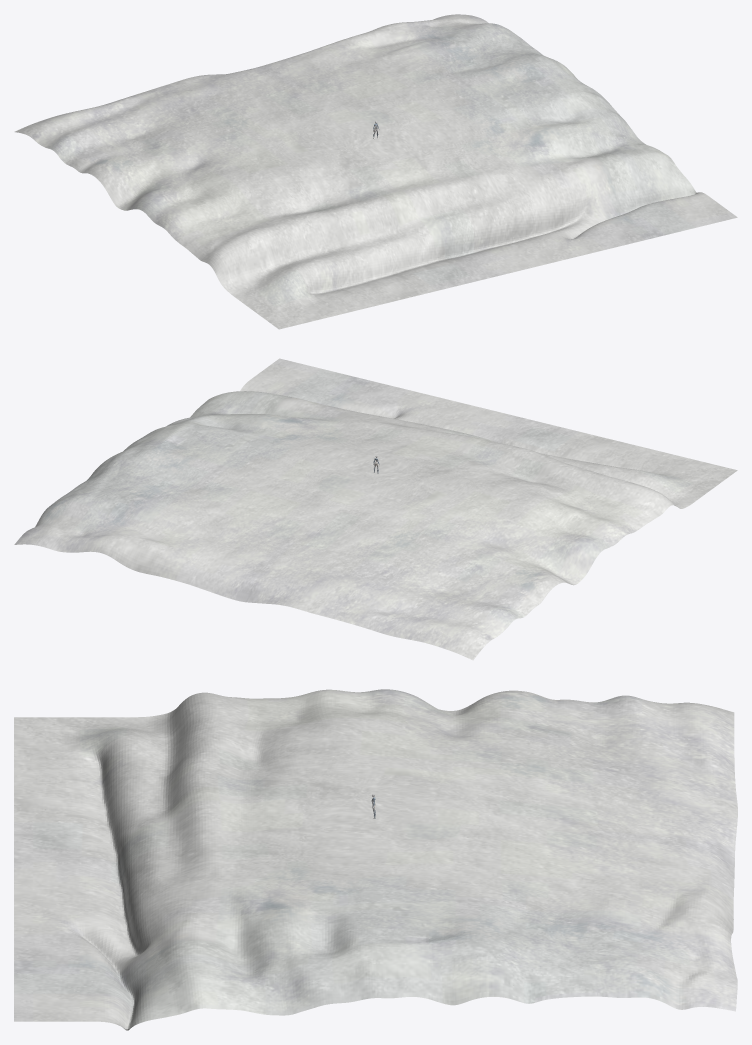
File: Land1.glb
3 views of the same model, one above another, from view 1: azimuth 30°, elevation 25°; view 2: azimuth 150°, elevation 25°; view 3: azimuth 270°, elevation 25° (orthographic). The views are drawn at different scales.
Parts seen in each view (by area): view 1: Plane; view 2: Plane; view 3: Plane.
Boxes of the visible parts, x1,y1,x2,y2 form: Plane: [14, 14, 737, 329]; Plane: [14, 358, 737, 660]; Plane: [14, 689, 737, 1030].
Bounding box in the file's own units: 47.7 × 6.48 × 47.35.
Materials: 2 (2 with a texture image).
